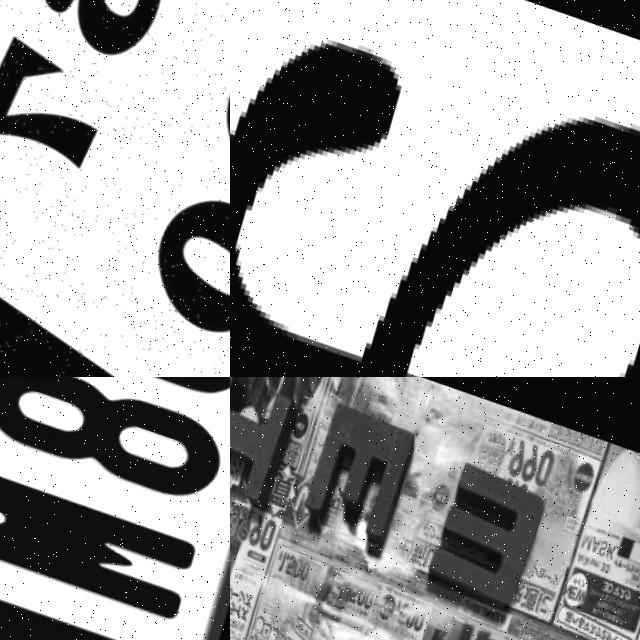0: (112, 146, 230, 368)
6: (0, 0, 199, 87)
7: (0, 9, 139, 216)
8: (0, 377, 230, 500)
9: (187, 9, 230, 221)
A: (230, 0, 640, 377)
E: (296, 391, 418, 553)
I: (230, 377, 298, 499)
M: (0, 450, 199, 610), (0, 563, 166, 640)
W: (426, 448, 548, 611)
